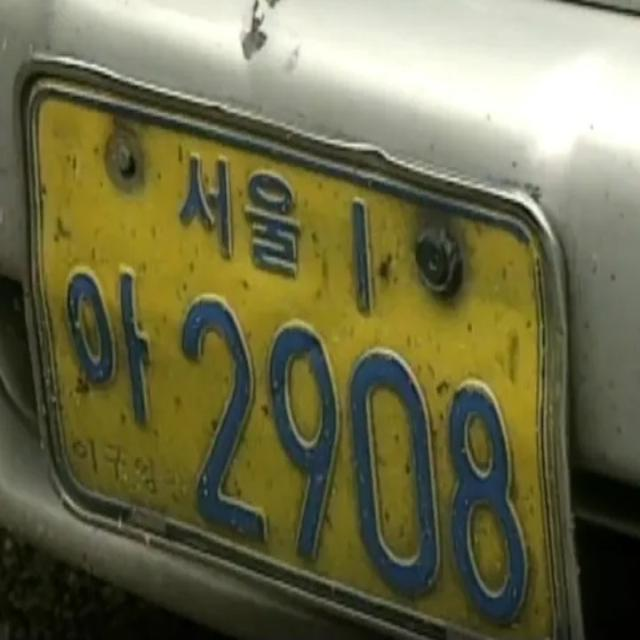car: (13, 37, 606, 640)
